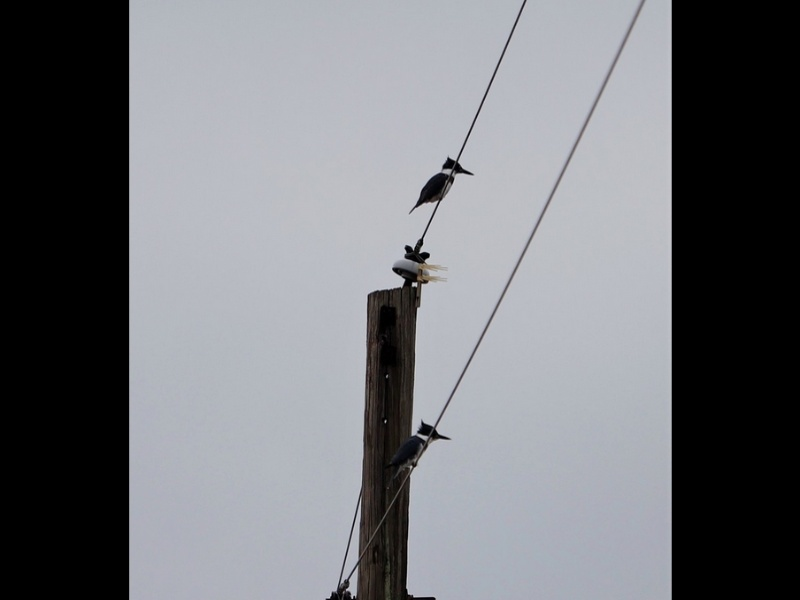kingfisher: (386, 418, 452, 485), (410, 155, 475, 215)
